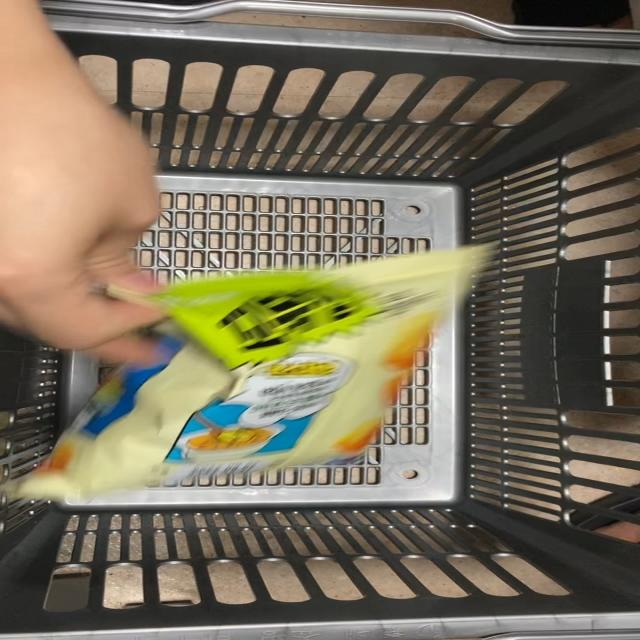ggobukchip: (13, 238, 470, 490)
